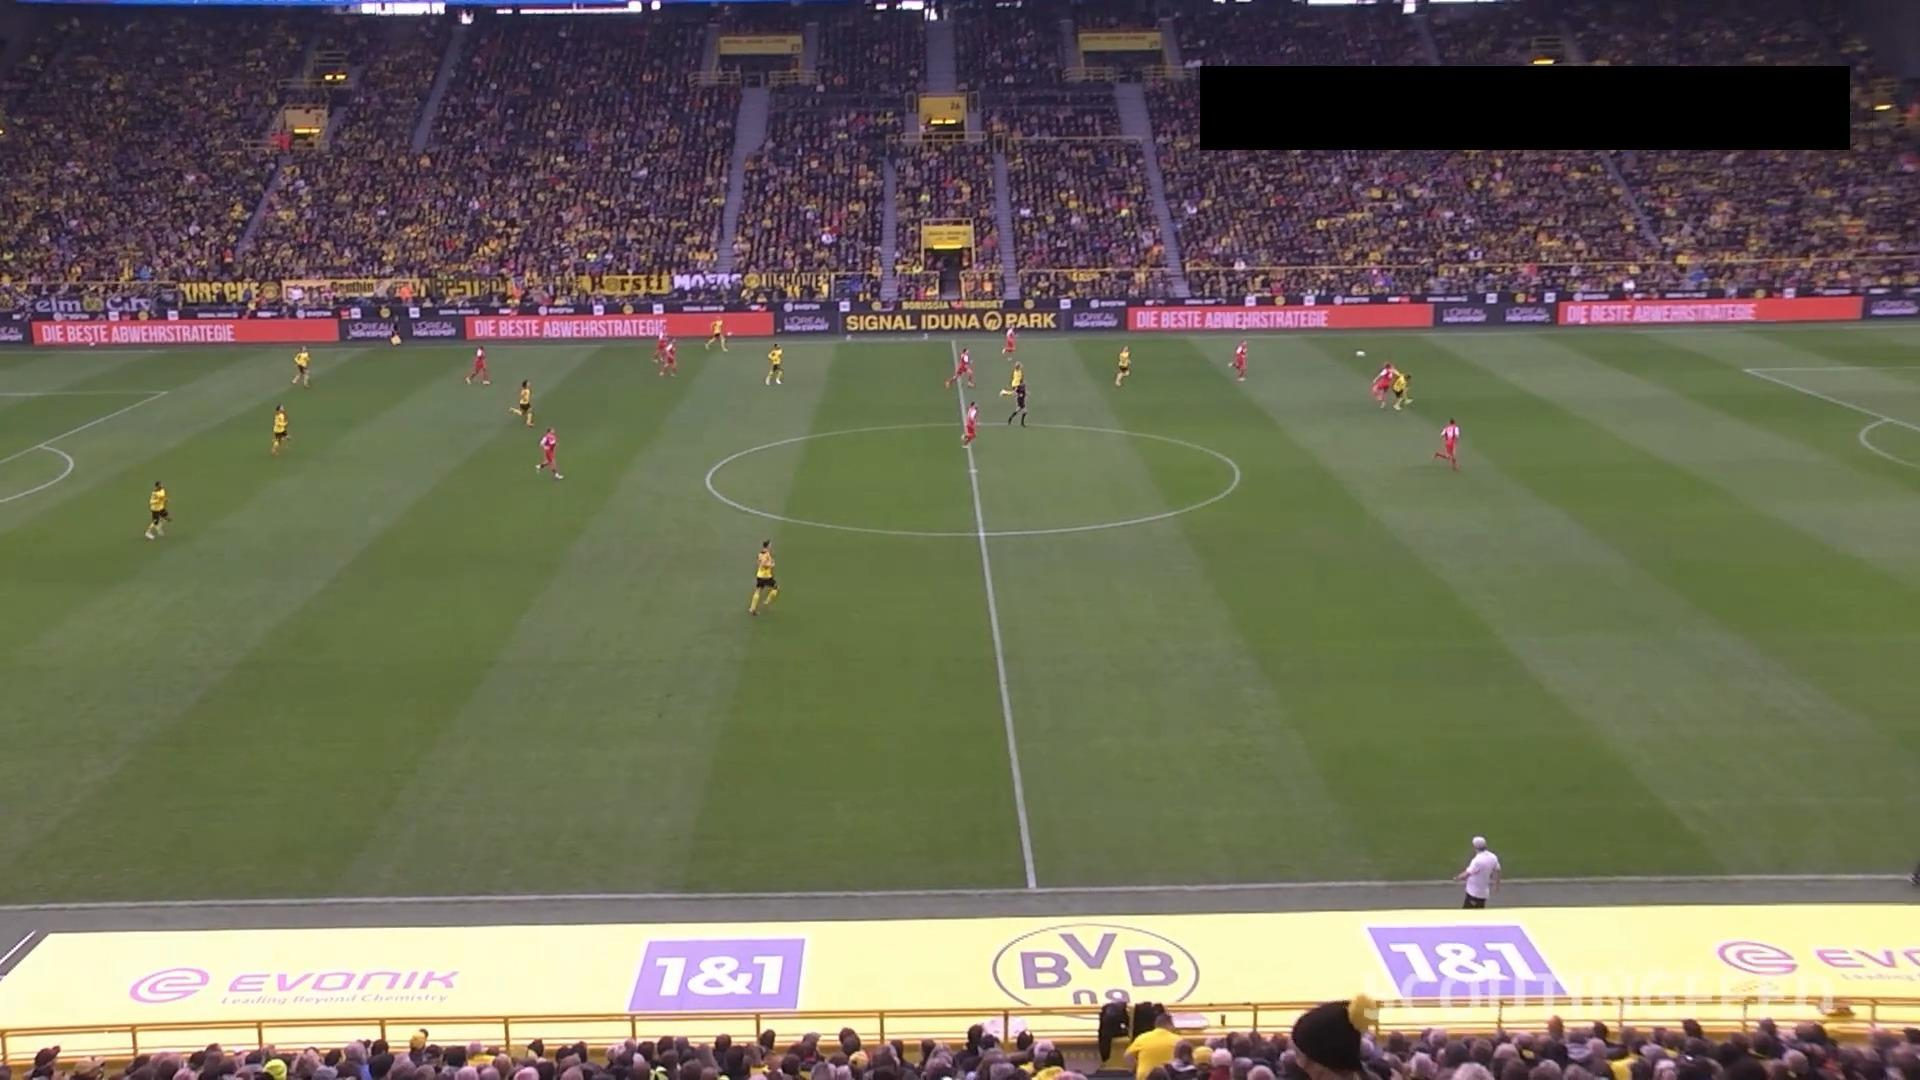ball: (1356, 349, 1365, 356)
fan: (1290, 998, 1372, 1073)
player: (747, 538, 779, 616), (144, 479, 170, 539), (534, 426, 563, 479), (1433, 416, 1461, 470), (943, 344, 976, 389), (1370, 360, 1397, 408), (509, 378, 535, 427), (464, 345, 491, 386), (269, 403, 290, 454), (659, 338, 682, 381), (959, 399, 979, 447), (703, 318, 730, 353), (999, 361, 1025, 397), (763, 342, 784, 386), (1390, 369, 1412, 409), (1228, 339, 1248, 381), (291, 346, 311, 387), (1113, 344, 1131, 387), (652, 319, 668, 364), (1000, 321, 1018, 359)
referee: (1451, 834, 1502, 908), (1008, 376, 1029, 427), (387, 315, 402, 345)
